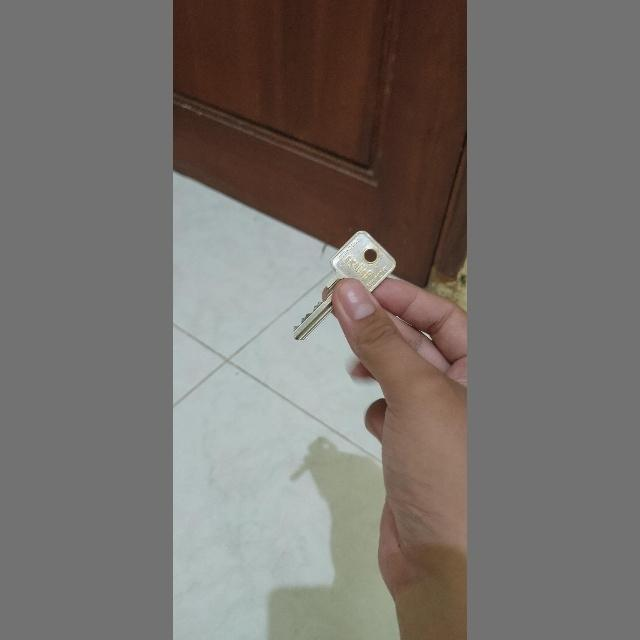Keys: (286, 216, 402, 344)
